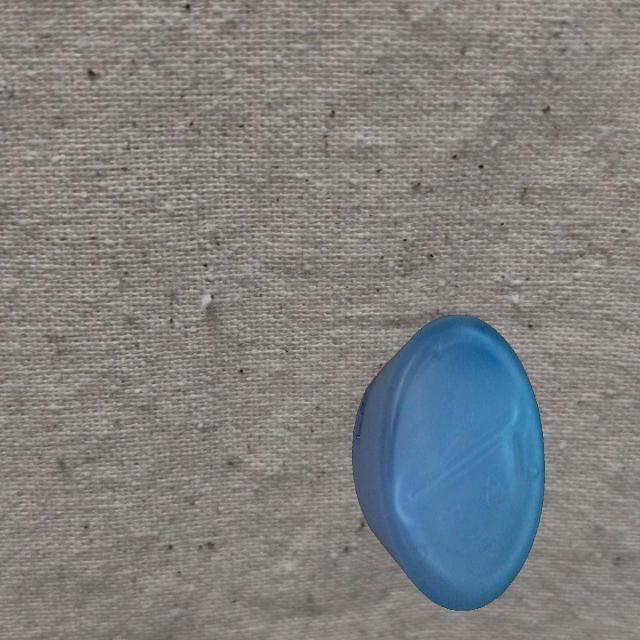bottle: (350, 311, 550, 614)
